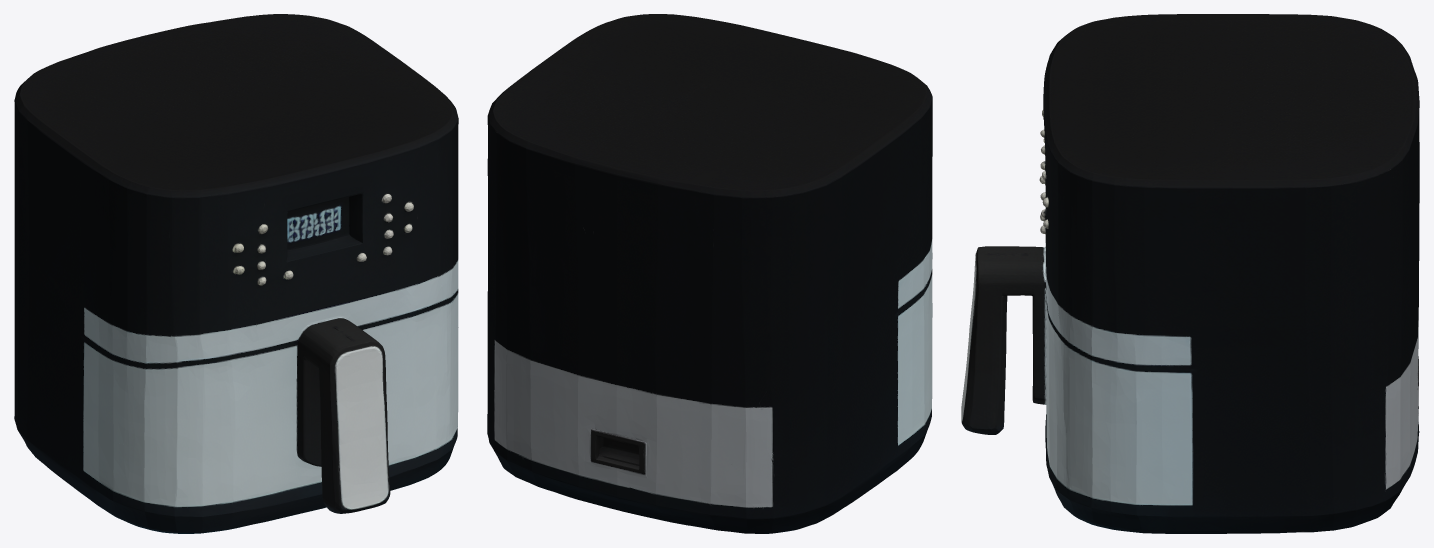
The model's file is air_fryer.fbx.
The picture shows the model from 3 angles, left to right: view 1: azimuth 30°, elevation 25°; view 2: azimuth 150°, elevation 25°; view 3: azimuth 270°, elevation 25°; orthographic projection. The views are drawn at different scales.
Visible parts, largest first — view 1: world; view 2: world; view 3: world.
Part boxes in pixels (x1=…): world: x1=14, y1=14, x2=458, y2=533; world: x1=487, y1=14, x2=932, y2=533; world: x1=961, y1=14, x2=1419, y2=533.
Size of the model in its own units: 86.61 by 85.36 by 97.66.
Materials: 1 (1 with a texture image).
